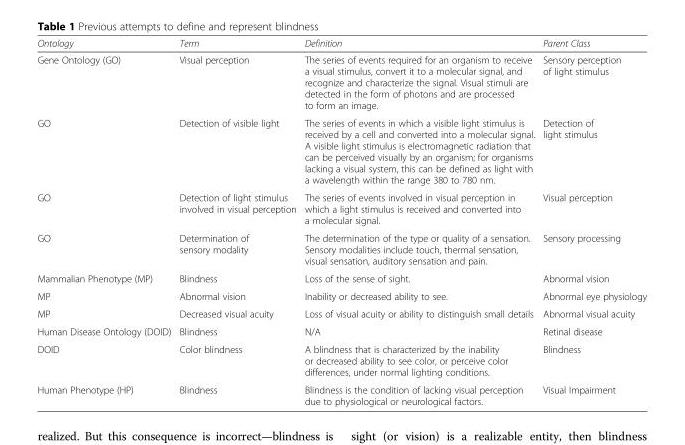table: (36, 37, 646, 406)
table column: (299, 37, 538, 406), (36, 37, 174, 406), (174, 37, 299, 406), (538, 37, 646, 406)
table column header: (36, 37, 646, 51)
table row: (36, 113, 646, 188), (36, 51, 646, 113), (36, 228, 646, 269), (36, 188, 646, 228), (36, 340, 646, 380), (36, 380, 646, 406), (36, 269, 646, 287), (36, 304, 646, 322), (36, 322, 646, 340), (36, 287, 646, 304), (36, 37, 646, 51)
